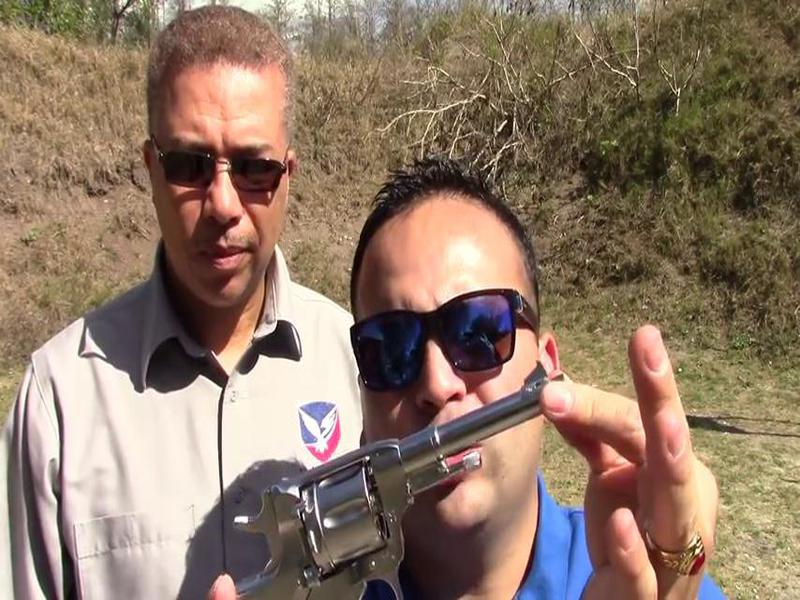Revolver: (206, 362, 580, 600)
